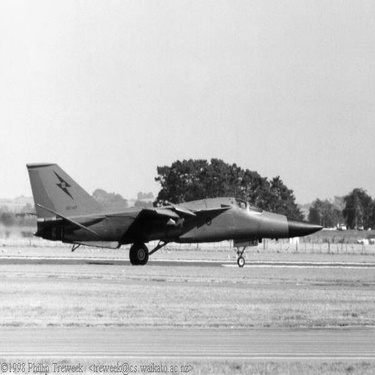airplane: (13, 151, 332, 271)
